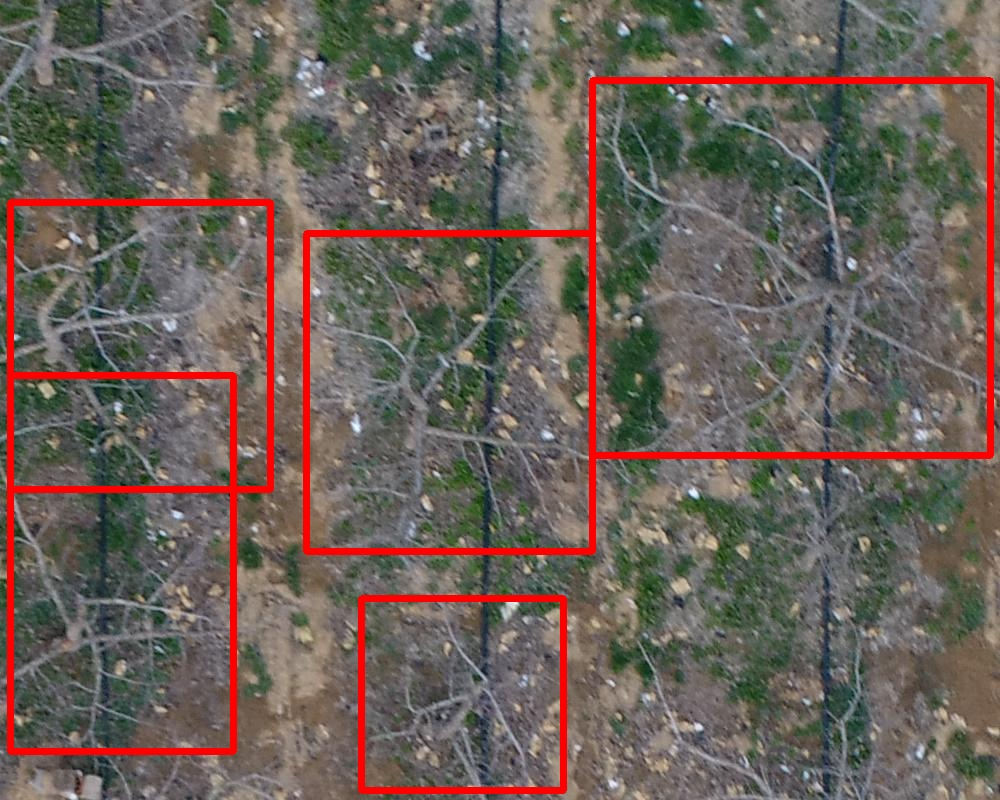apple: (592, 80, 990, 455), (306, 233, 592, 551), (10, 375, 233, 751), (10, 202, 270, 489), (361, 598, 563, 790)
